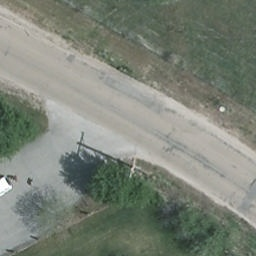car: (0, 176, 14, 207)
